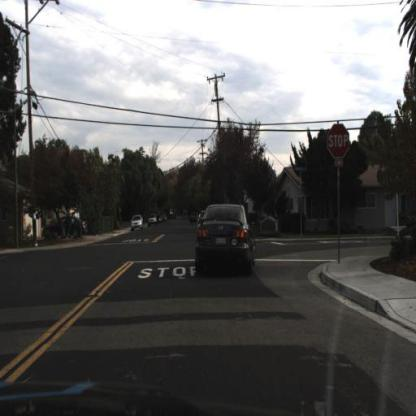car: (196, 202, 258, 275), (46, 215, 86, 239), (129, 213, 145, 233), (147, 211, 158, 229)
